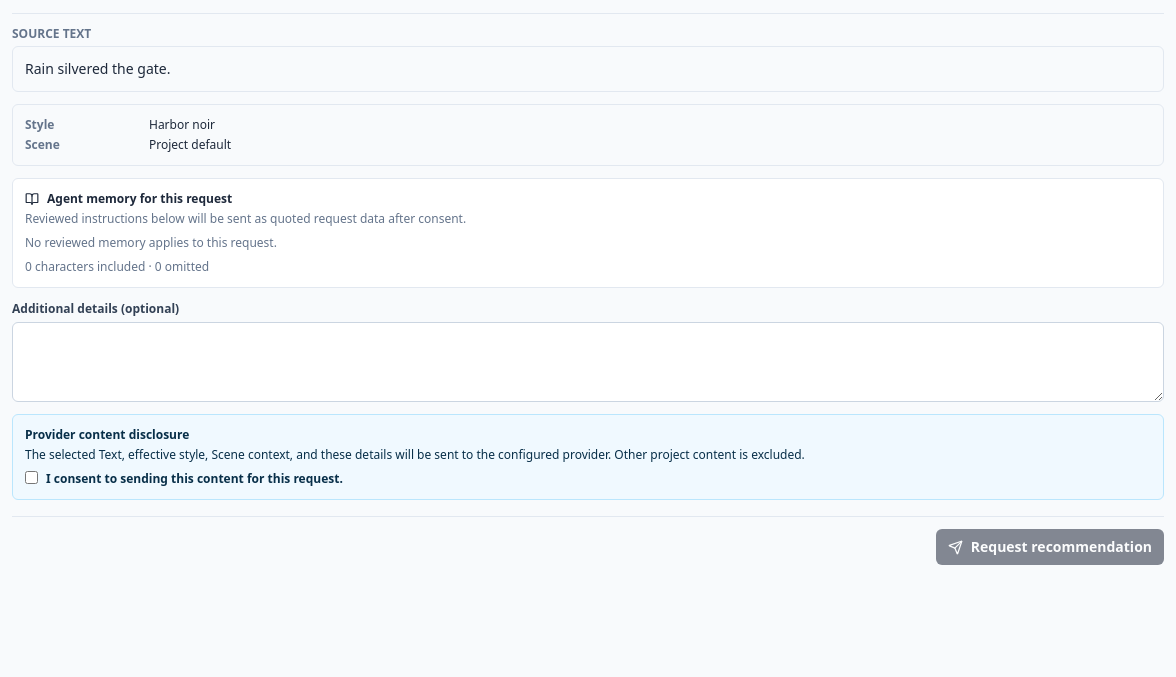
StyleRecommendationRequest › requests another version and keeps the prior version available
This screenshot has width=1176, height=677.
Expected: the text "Harbor noir" is shown, [149,116,215,133]
Click the checkbox labelled "I consent to sending this content for this request." at (32,478), box [25,471,38,484]
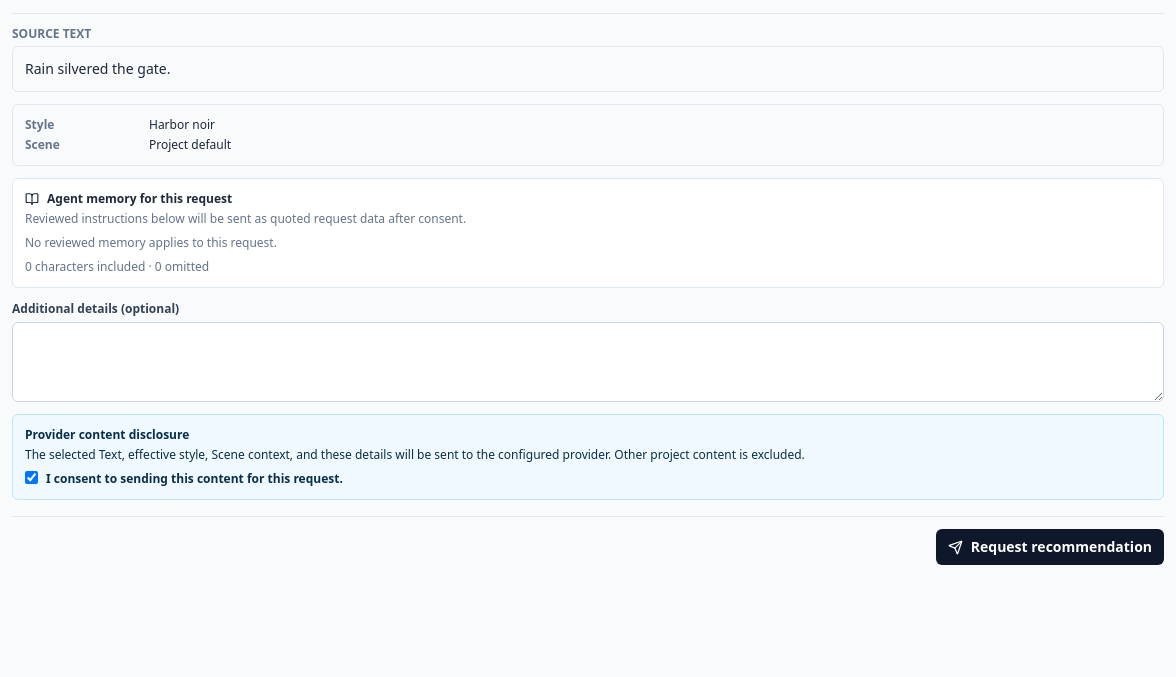
Click the button "Request recommendation" at (1050,547), box [936,529,1164,565]
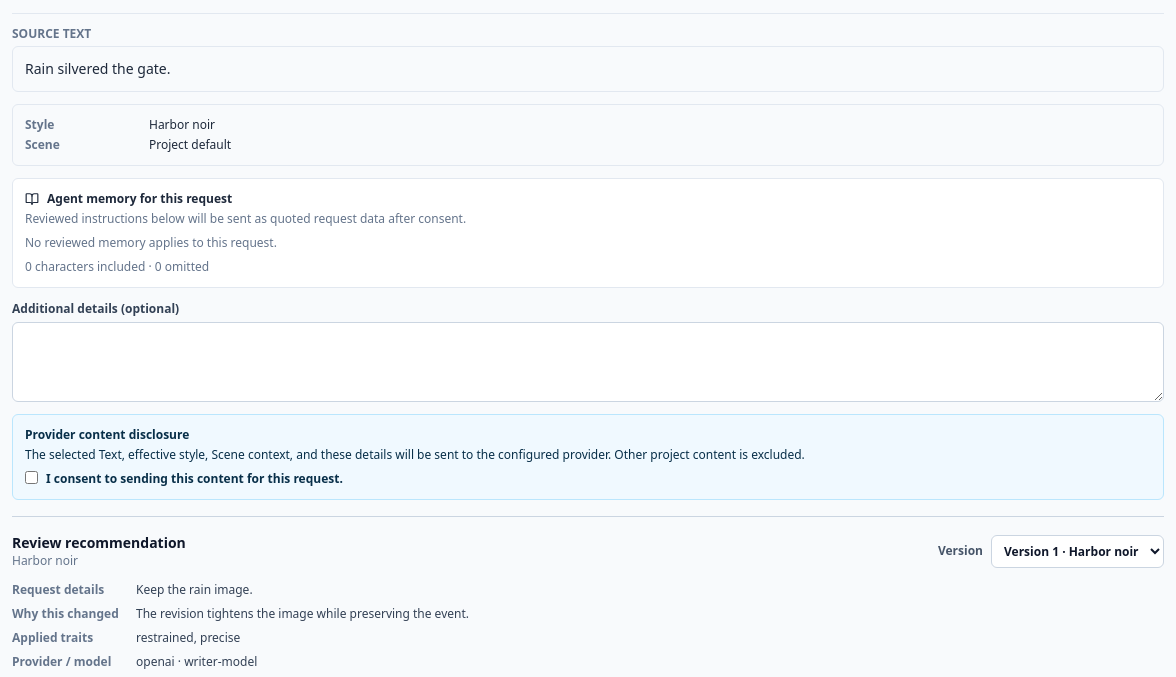
Type "Use shorter beats." into the text box labelled "Additional details (optional)" at (588,362), box [12,322,1164,402]
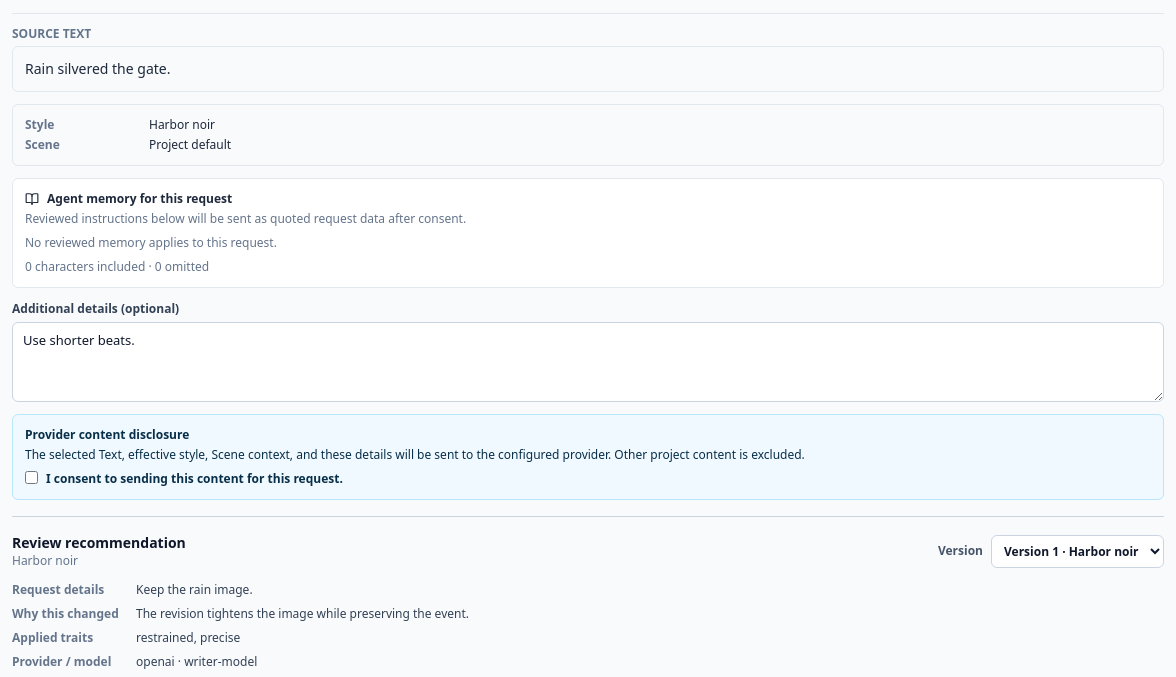
Click the checkbox labelled "I consent to sending this content for this request." at (32,478), box [25,471,38,484]
(page scrolled)
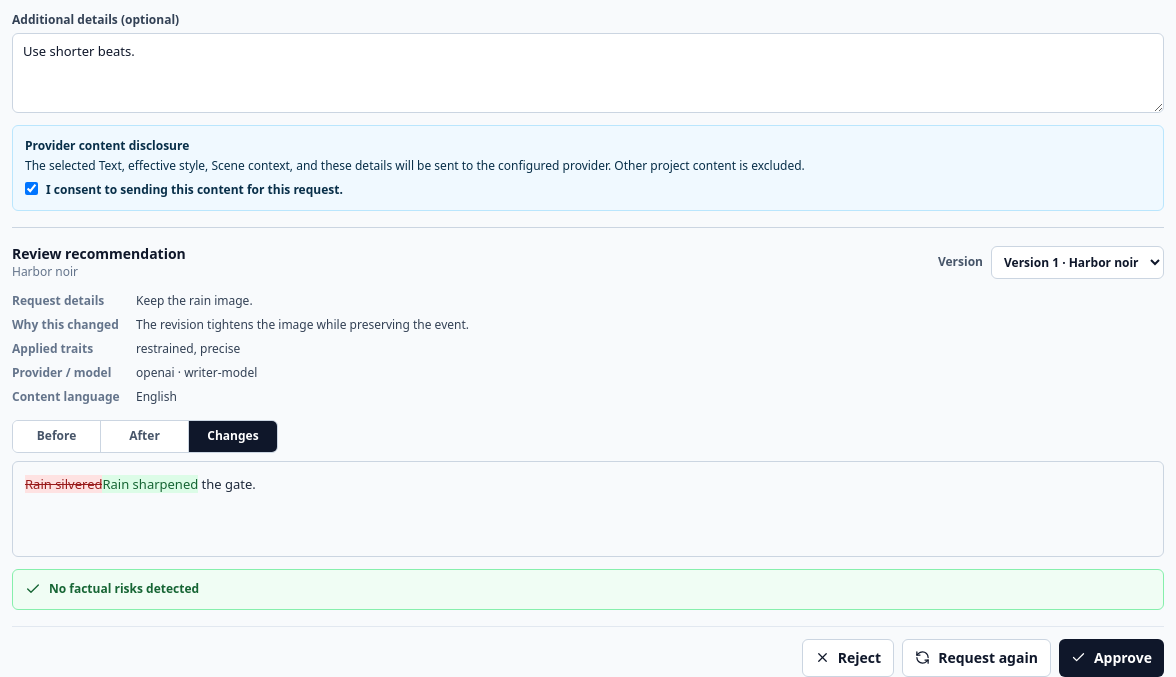
Click the button "Request again" at (976,658), box [902,639,1051,676]
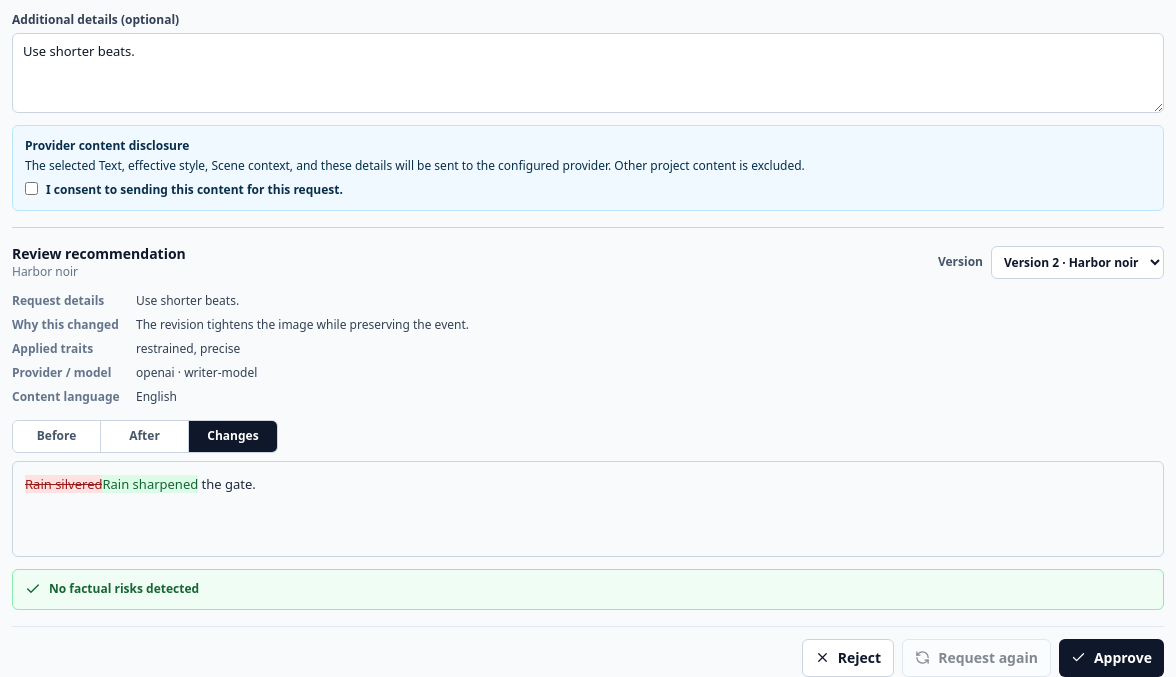
Select "Version 1 · Harbor noir" in the dropdown labelled "Version" at (1078,262), box [991,246,1164,278]
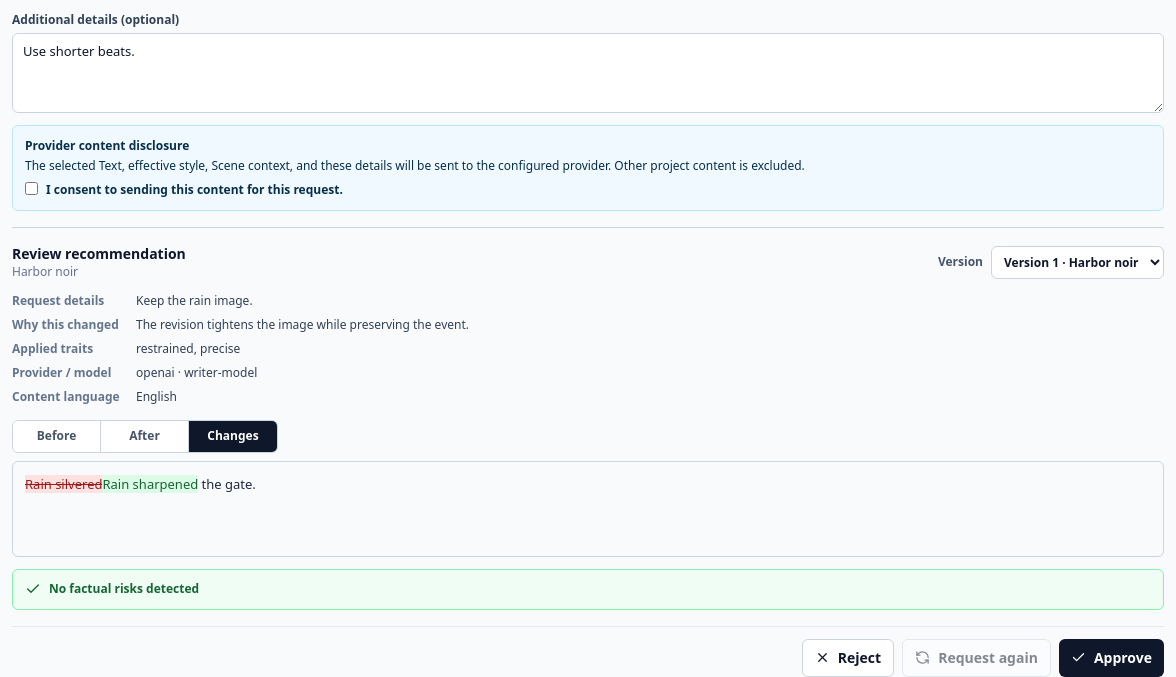
Now the text "Keep the rain image." is shown, box [136,292,253,309]
